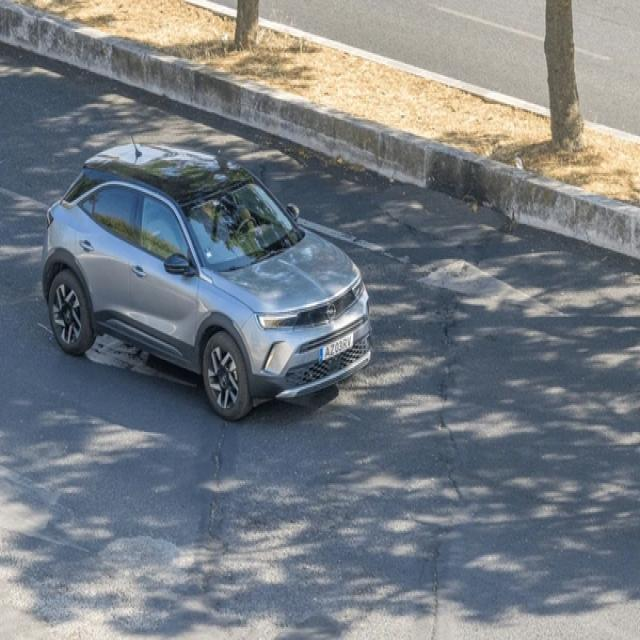opel: (326, 305, 338, 320)
